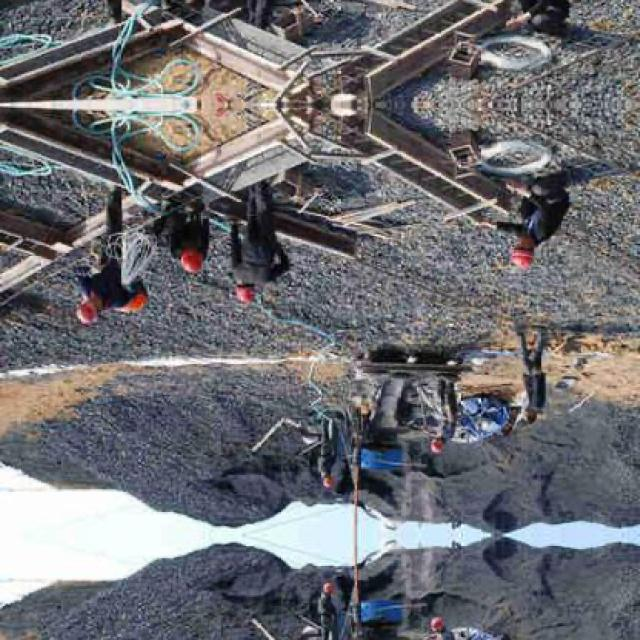con casco: (165, 238, 212, 296), (497, 232, 550, 274), (240, 271, 274, 320)
